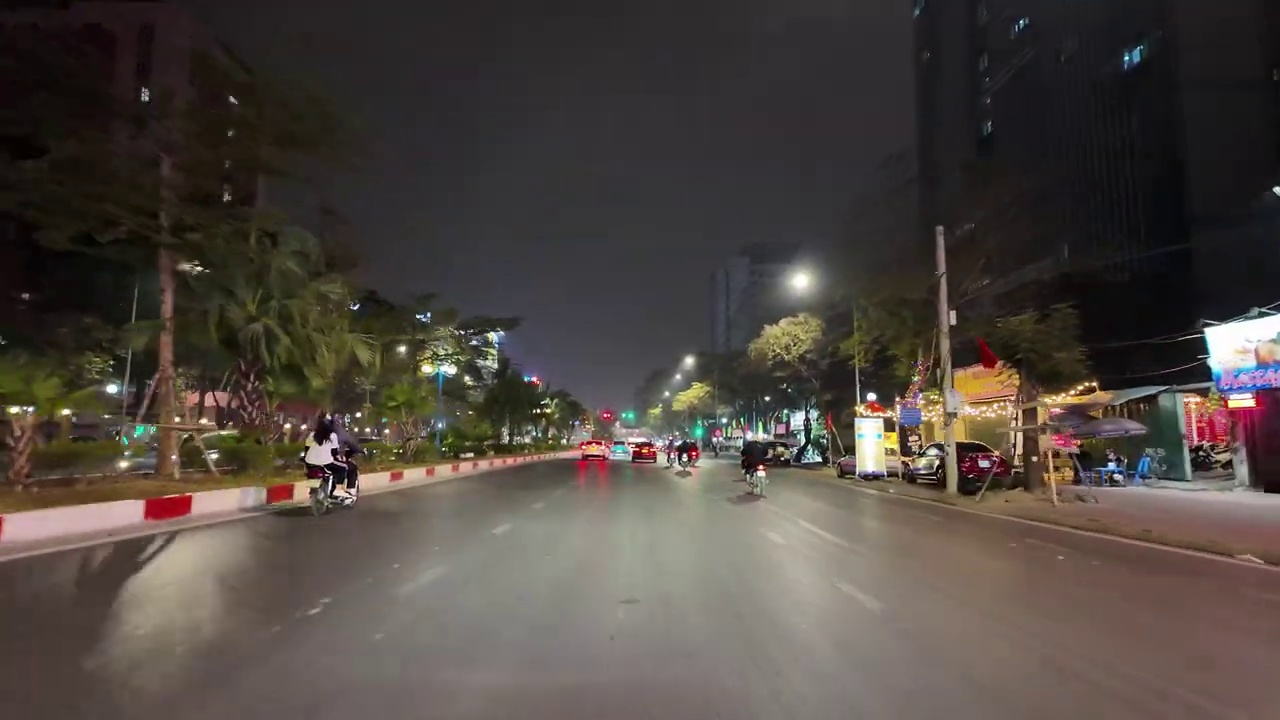acesa: (784, 265, 818, 297), (674, 352, 701, 377)
